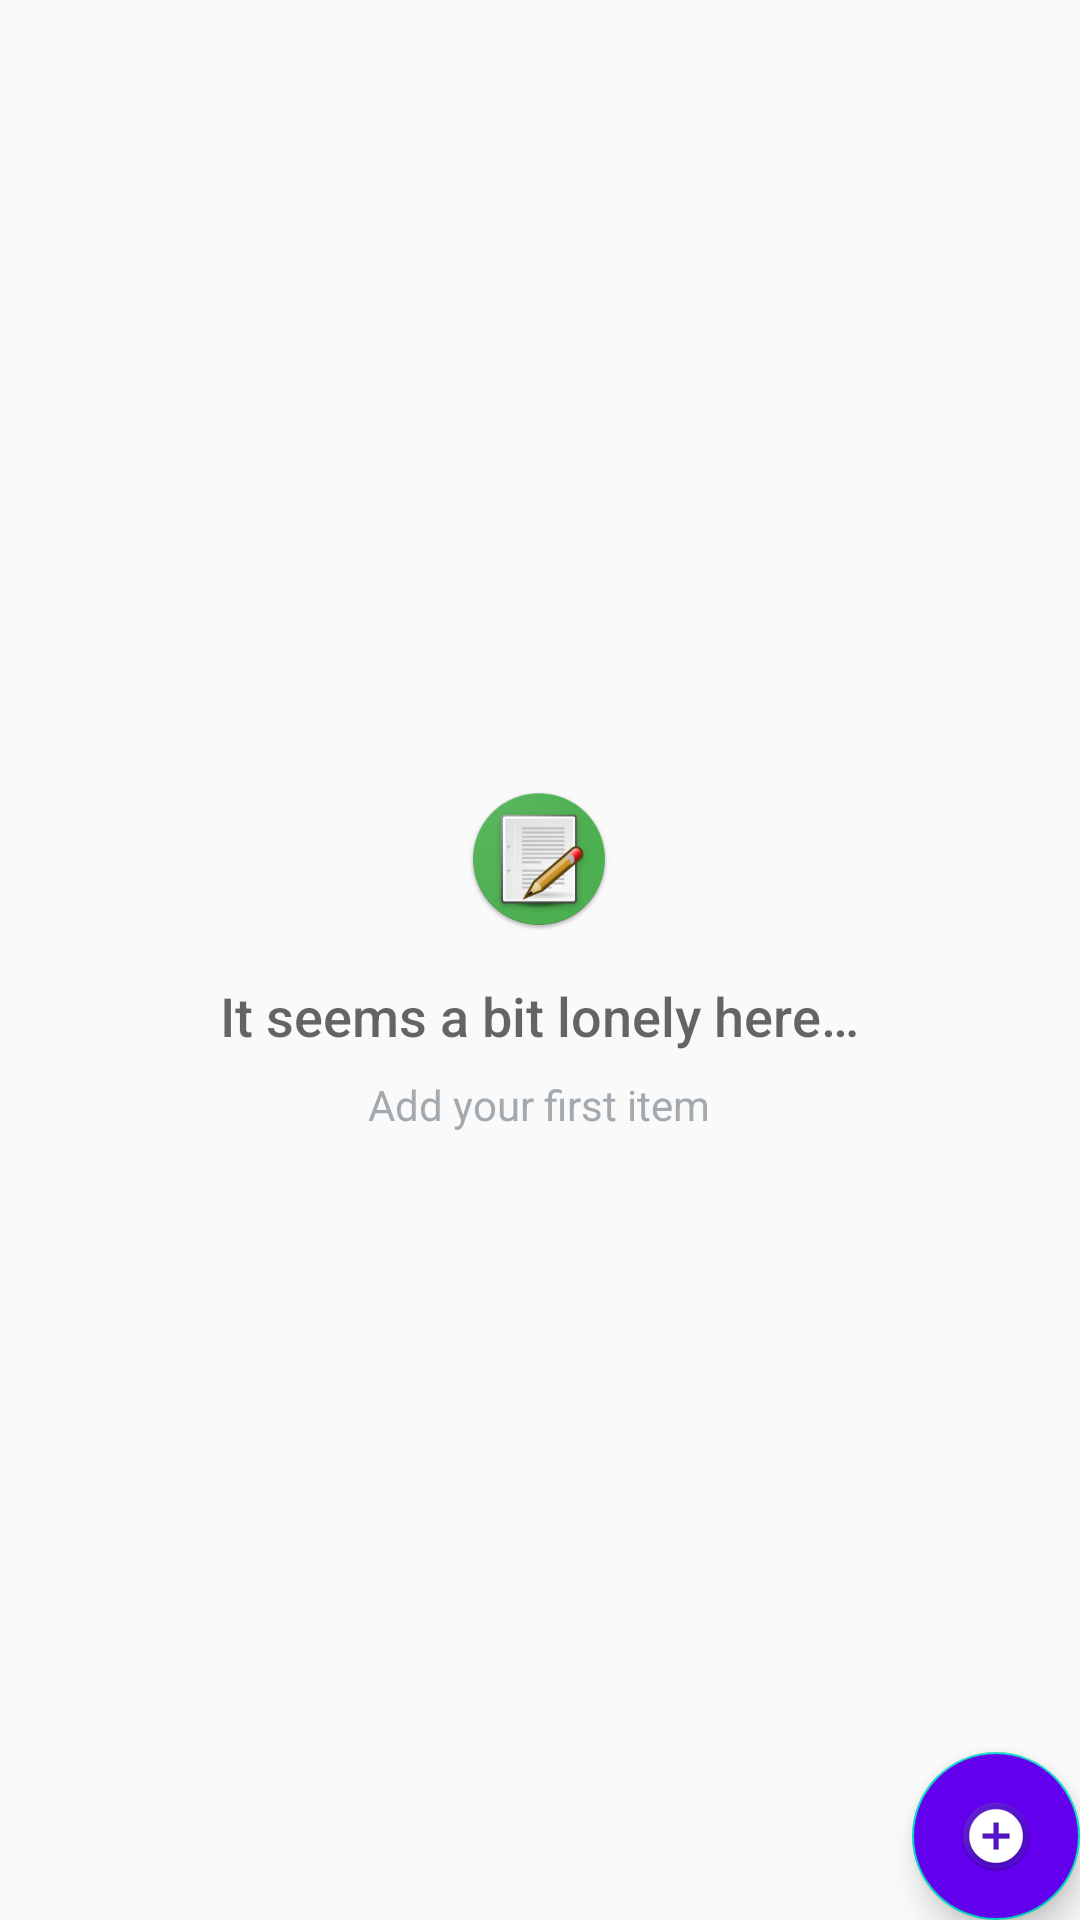

Icons on this 1080*1920 Android screen, each with its box as (x1, y1, x2, y2):
fab: (912, 1752, 1080, 1920)
